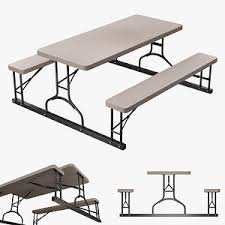obstacle: (5, 8, 217, 151)
